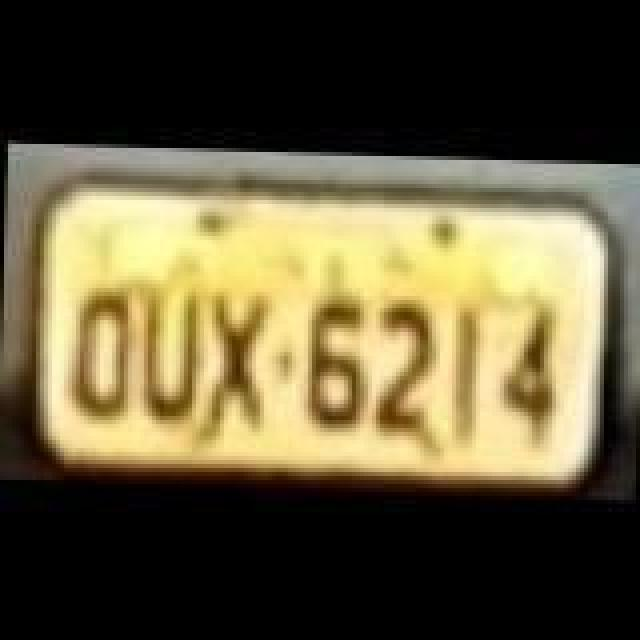1: (442, 302, 486, 442)
2: (372, 296, 436, 440)
4: (496, 302, 560, 450)
6: (302, 298, 370, 438)
O: (64, 284, 136, 420)
U: (132, 282, 204, 422)
X: (206, 290, 274, 430)
